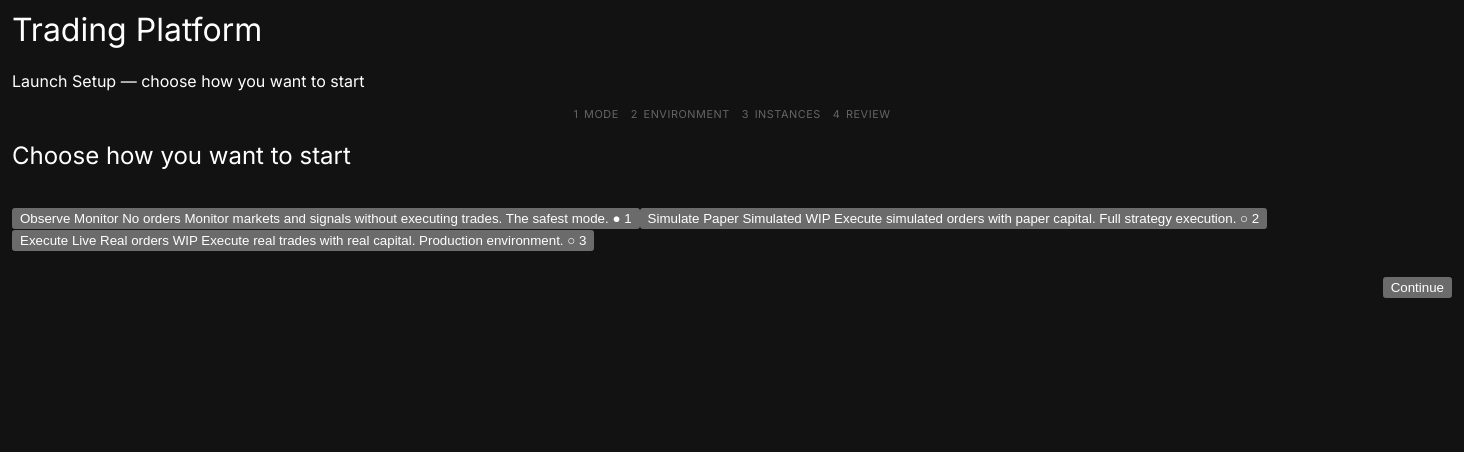
Test: Launch Setup — instances step › renders per-slot timeframe dropdowns preseeded from the workspace ladder
The width and height of the screenshot is (1464, 452).
Click the button "Continue": {"x": 1417, "y": 287} [1383,277,1452,298]
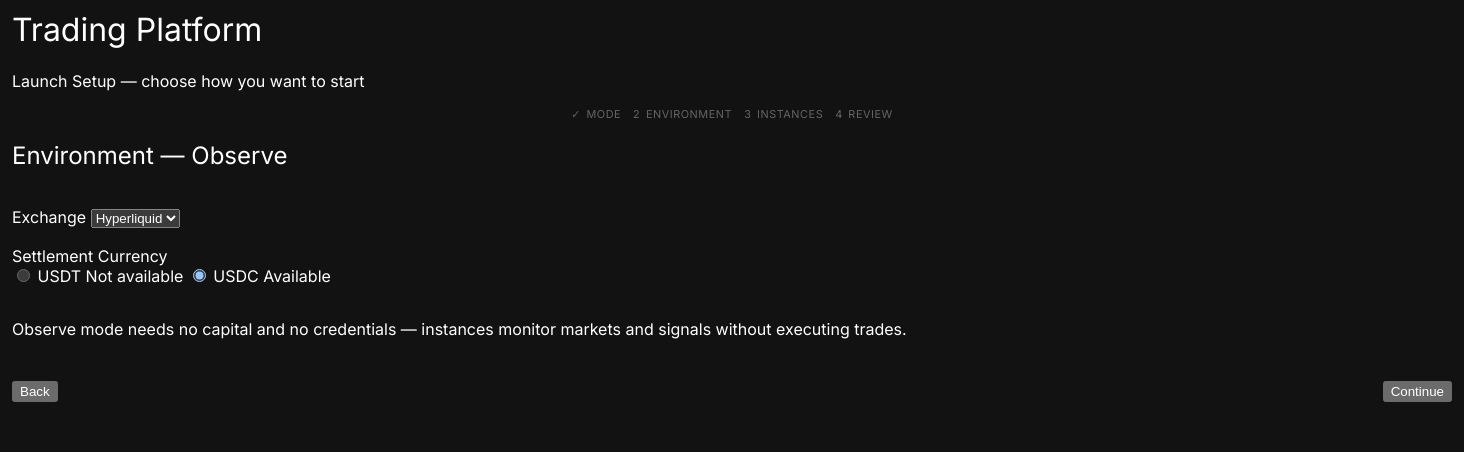
Click the button "Continue": {"x": 1417, "y": 392} [1383,381,1452,402]
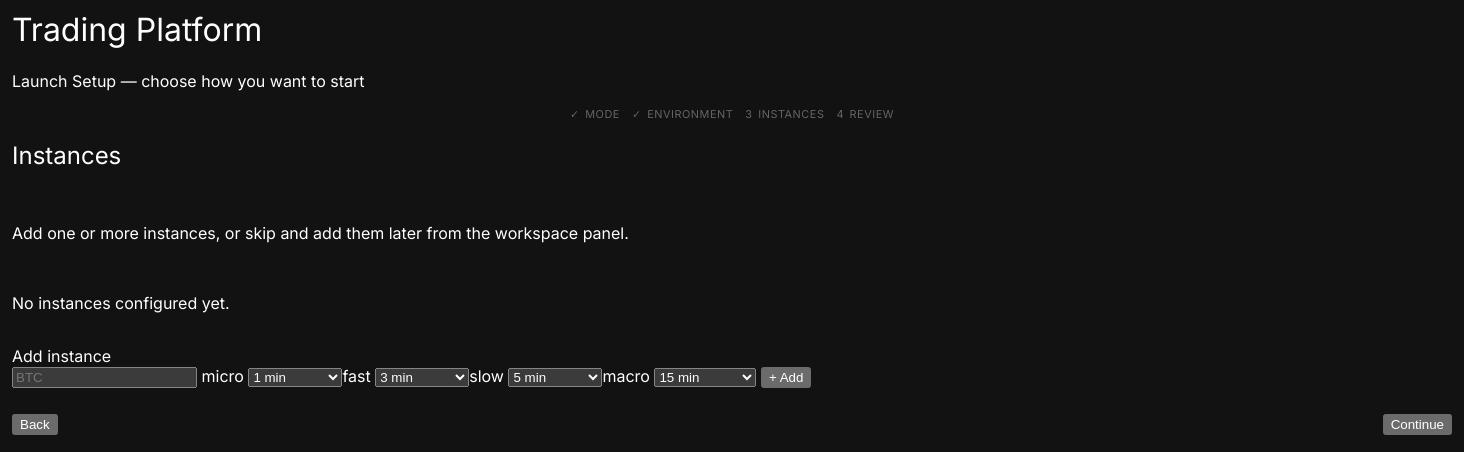
Result: the number of dropdowns is 4 at [248,368,342,388]; [375,368,469,388]; [508,368,602,388]; [654,368,756,388]
Result: the dropdown labelled "micro" shows "1 min" at [248,368,342,388]
Result: the dropdown labelled "fast" shows "3 min" at [375,368,469,388]
